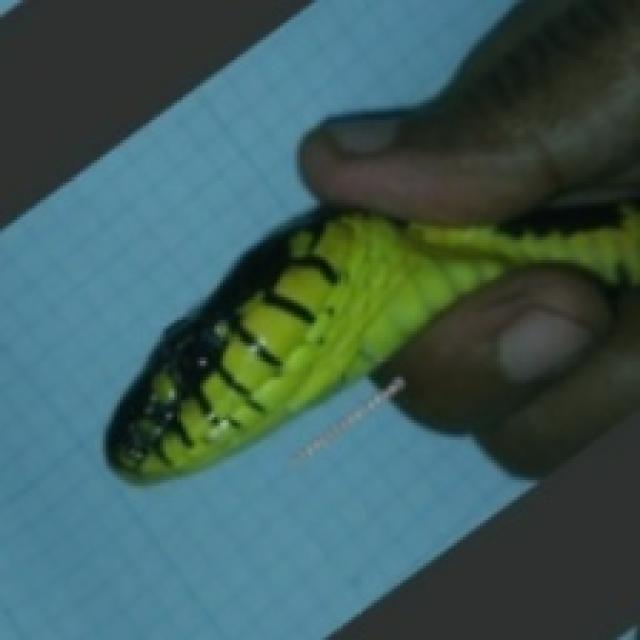mangrove cat snake: (109, 203, 637, 480)
